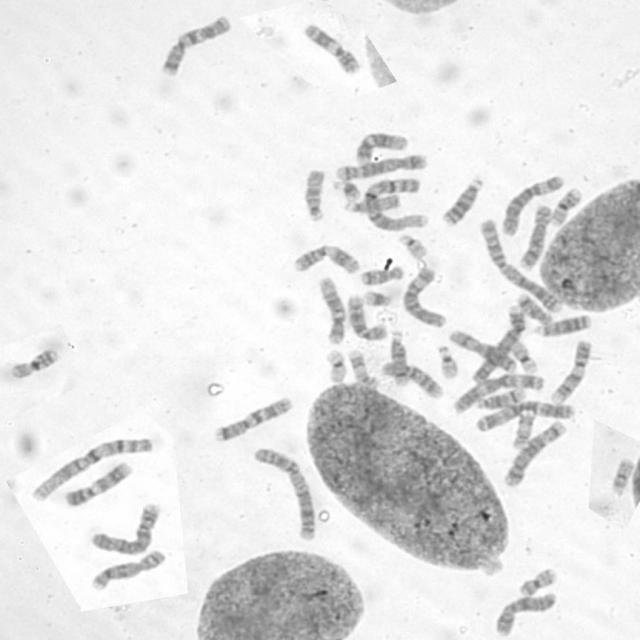A1: (30, 437, 154, 503), (363, 177, 430, 231)
A2: (480, 217, 564, 315), (253, 447, 316, 542)
A3: (452, 373, 545, 416), (476, 399, 576, 434)
B4: (470, 302, 526, 385), (90, 502, 160, 556)
B5: (503, 418, 567, 488), (335, 154, 428, 181)
C10: (381, 360, 446, 400), (346, 292, 387, 342)
C11: (303, 24, 361, 76), (292, 244, 363, 276)
C12: (318, 276, 347, 344), (354, 132, 410, 166)
C6: (501, 175, 564, 238), (402, 266, 447, 329)
C7: (160, 13, 233, 78), (214, 396, 295, 444)
C8: (90, 549, 166, 592), (518, 206, 552, 271)
C9: (64, 461, 134, 507), (550, 340, 592, 405)
D13: (441, 177, 484, 226), (532, 314, 592, 338)
D14: (388, 328, 411, 386), (476, 386, 528, 411)
D15: (303, 168, 327, 224), (344, 193, 402, 213)
E16: (8, 347, 62, 382), (551, 185, 584, 228)
E17: (347, 347, 379, 391), (511, 399, 538, 451)
E18: (516, 292, 554, 327), (360, 265, 404, 286)
F19: (511, 340, 539, 375), (324, 348, 347, 385)
F20: (517, 566, 559, 598), (611, 458, 636, 496)
G21: (330, 179, 363, 203), (363, 289, 392, 307)
G22: (398, 233, 428, 260), (436, 345, 458, 379)
X: (447, 327, 517, 374), (494, 592, 557, 638)
